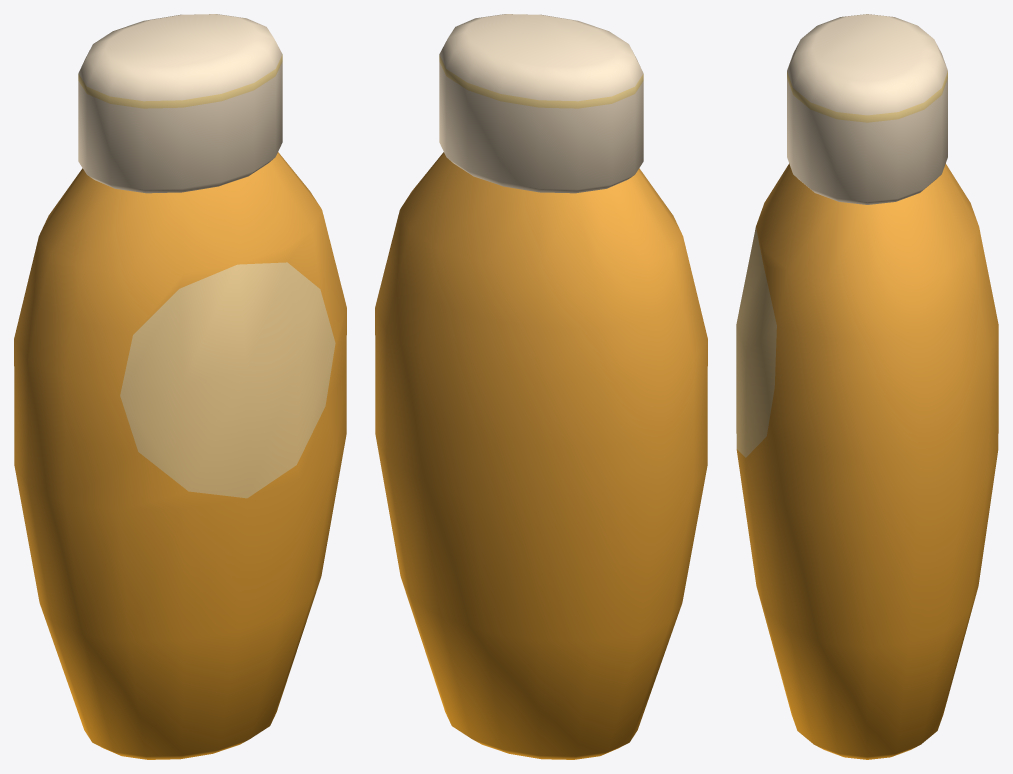
File: Cream_001.fbx
The picture shows the model from 3 angles, left to right: view 1: azimuth 30°, elevation 25°; view 2: azimuth 150°, elevation 25°; view 3: azimuth 270°, elevation 25°; orthographic projection. The views are drawn at different scales.
Visible parts, largest first — view 1: Cream_001; view 2: Cream_001; view 3: Cream_001.
Boxes of the visible parts, x1,y1,x2,y2 form: Cream_001: [14, 14, 346, 759]; Cream_001: [375, 14, 707, 759]; Cream_001: [736, 14, 998, 759].
Bounding box in the file's own units: 13.53 × 10.3 × 29.26.
